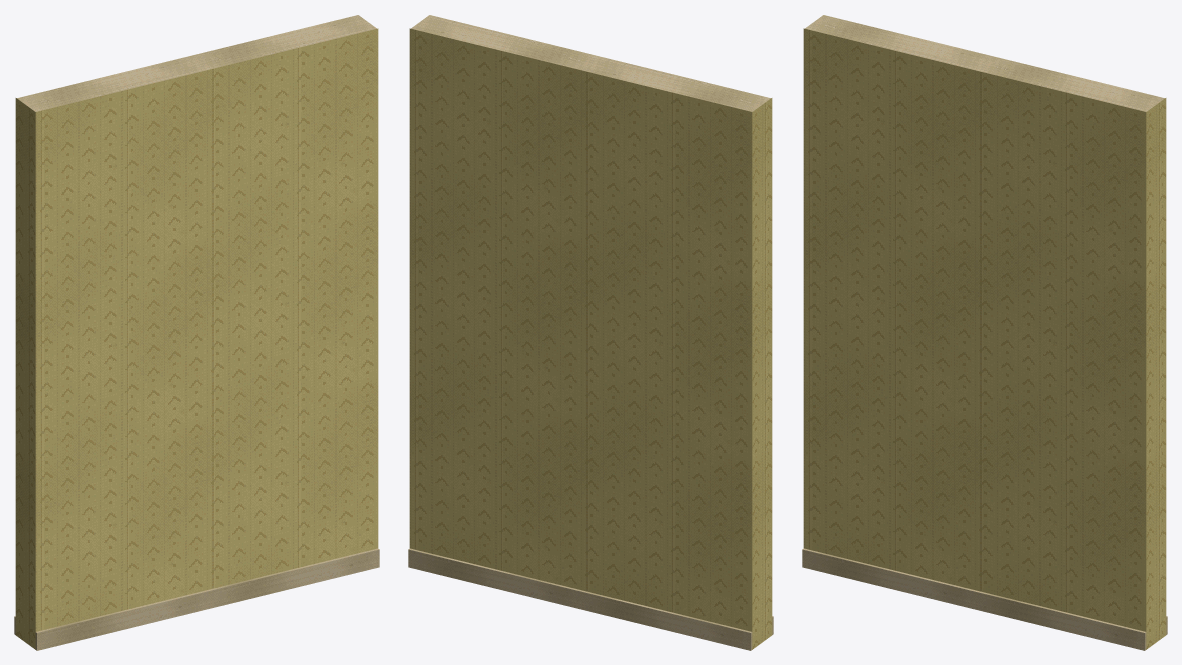
The model's file is back_wall.glb.
3 views of the same model, side by side, from view 1: azimuth 30°, elevation 25°; view 2: azimuth 150°, elevation 25°; view 3: azimuth 330°, elevation 25° (orthographic).
Parts seen in each view (by area): view 1: back_wall; view 2: back_wall; view 3: back_wall.
Part boxes in pixels (x1,y1,x2,y2): back_wall: [14, 15, 379, 650]; back_wall: [408, 15, 773, 650]; back_wall: [802, 15, 1167, 650].
Size of the model in its own units: 2 by 3 by 0.23.
Materials: 2 (2 with a texture image).
